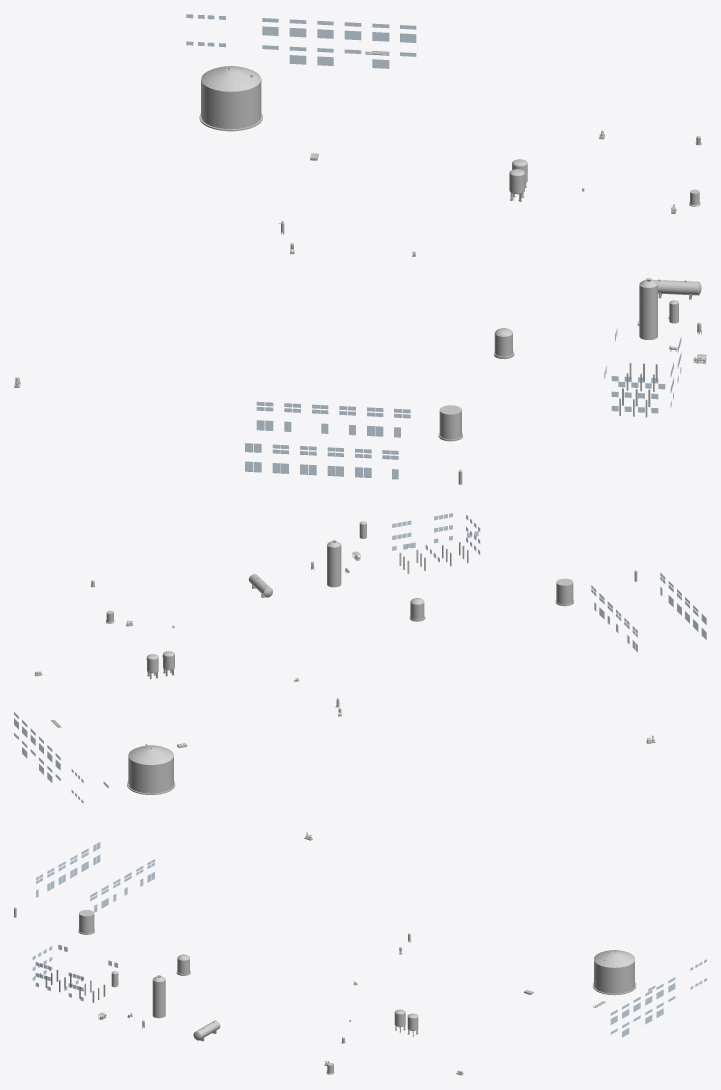
The model's file is NoLod_6.glb.
The picture shows the model from 3 angles, top to bottom: view 1: azimuth 30°, elevation 25°; view 2: azimuth 150°, elevation 25°; view 3: azimuth 270°, elevation 25°; orthographic projection. The views are drawn at different scales.
Visible parts, largest first — view 1: rtc; view 2: rtc; view 3: rtc.
Part boxes in pixels (<box>): rtc: <box>14,14,706,484</box>; rtc: <box>14,513,706,803</box>; rtc: <box>14,832,706,1075</box>.
Size of the model in its own units: 178 by 14.68 by 216.
